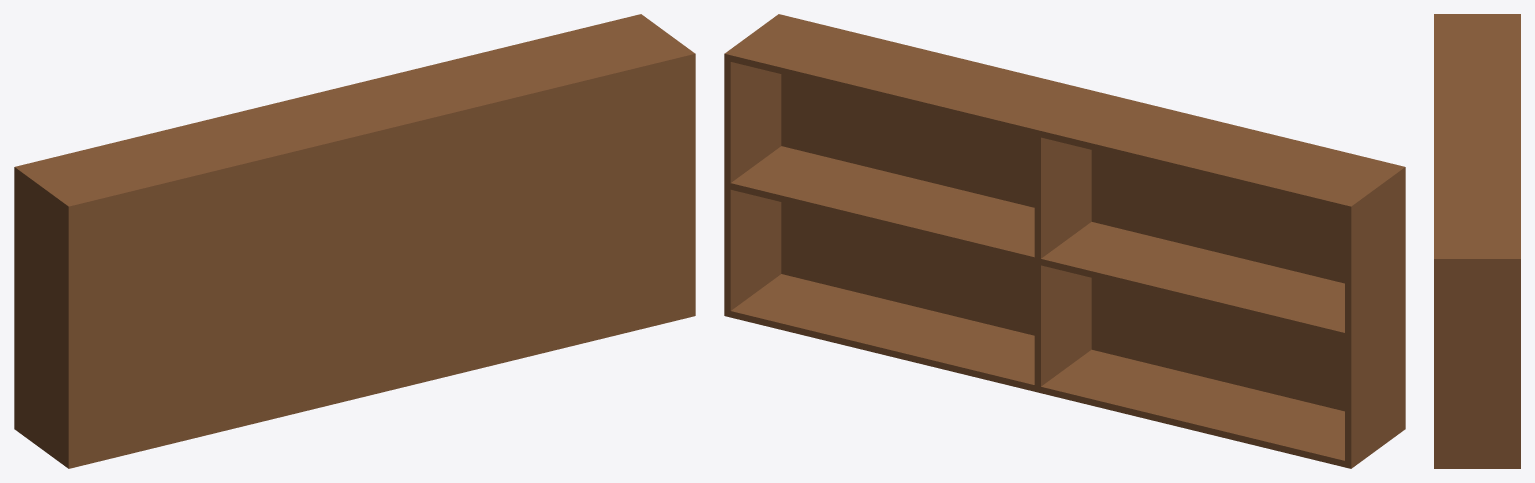
File: parametric-wall-shelf-1st-2000x0300x0800.glb
3 views of the same model, side by side, from view 1: azimuth 30°, elevation 25°; view 2: azimuth 150°, elevation 25°; view 3: azimuth 270°, elevation 25° (orthographic). The views are drawn at different scales.
Parts seen in each view (by area): view 1: backboard, top, end:-1; view 2: backboard, top, bottom, shelf, end:-1, end:1, divider:1; view 3: top, end:1, backboard, end:-1.
Boxes of the visible parts, x1,y1,x2,y2 form: backboard: (65, 51, 695, 468); top: (21, 15, 684, 202); end:-1: (14, 165, 70, 465); backboard: (775, 14, 1405, 431); top: (730, 18, 1394, 211); bottom: (730, 274, 1344, 467); shelf: (730, 146, 1344, 339); end:-1: (1345, 168, 1401, 468); end:1: (724, 16, 781, 317); divider:1: (1034, 136, 1091, 386); top: (1439, 16, 1520, 256); end:1: (1439, 256, 1520, 468); backboard: (1434, 14, 1439, 468); end:-1: (1439, 14, 1520, 16).
Size of the model in its own units: 2 by 0.8 by 0.3.
